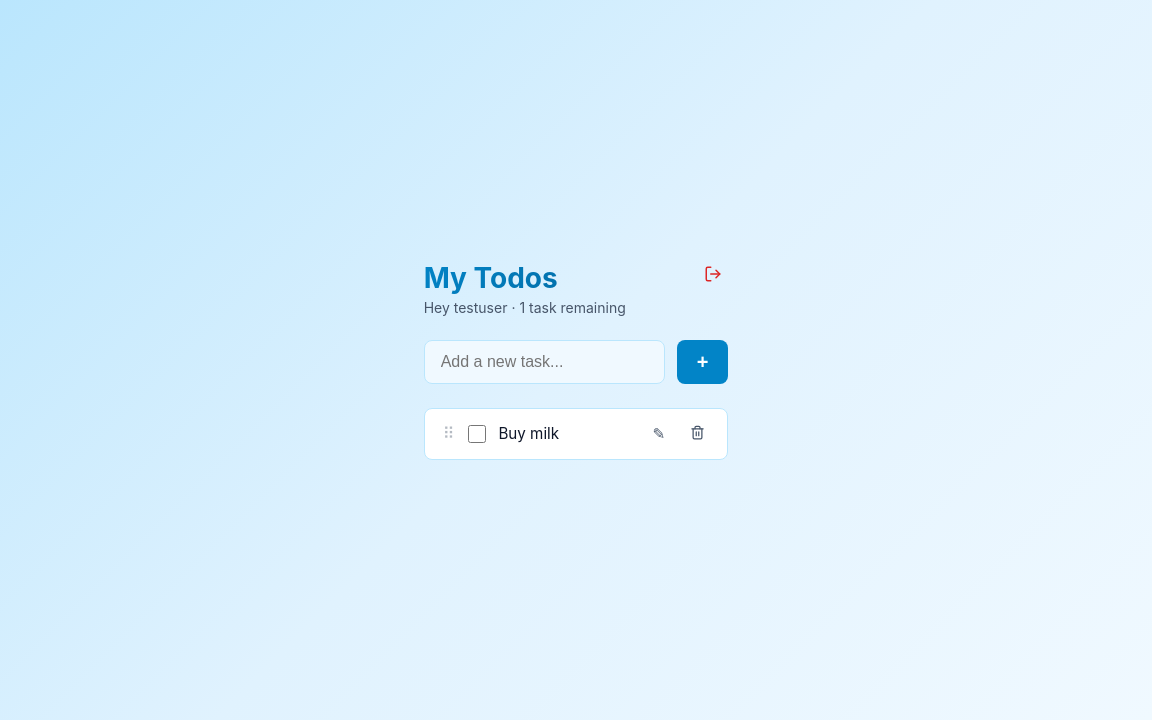
Test case: Home page › clicking Cancel in edit mode exits edit mode
The image size is (1152, 720).
Click the button titled "Edit".
click(659, 434)  # box [646,420,672,446]
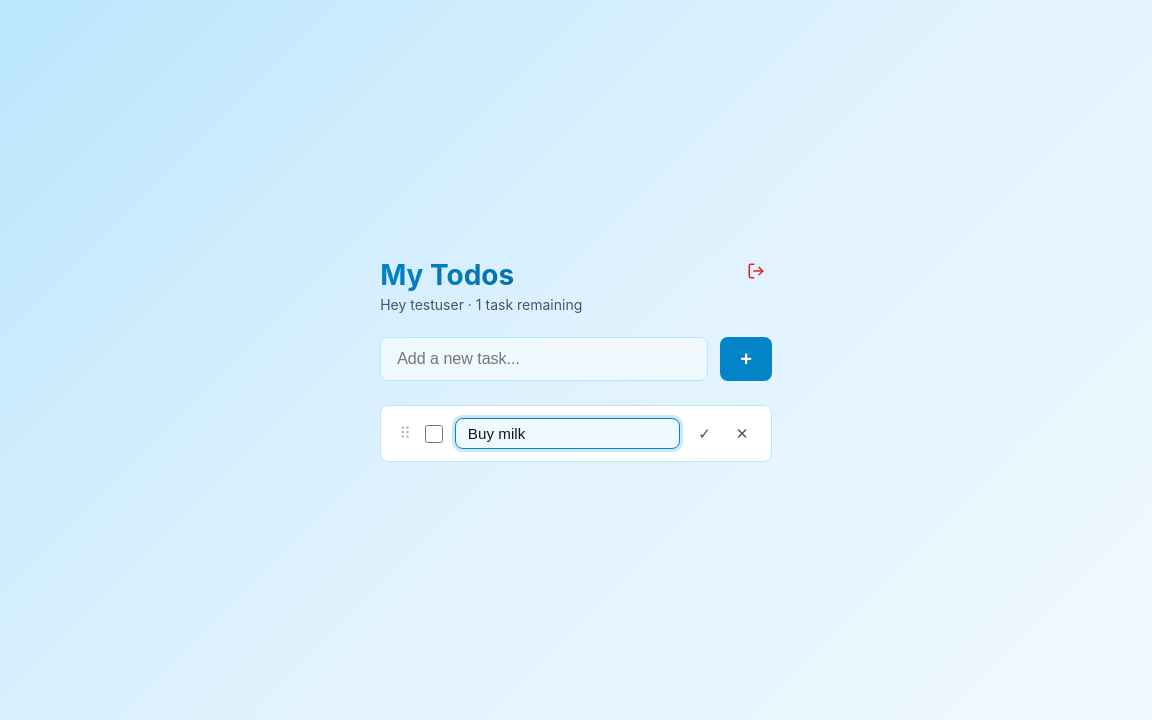
Click the button titled "Cancel".
click(742, 434)  # box [729,420,755,446]
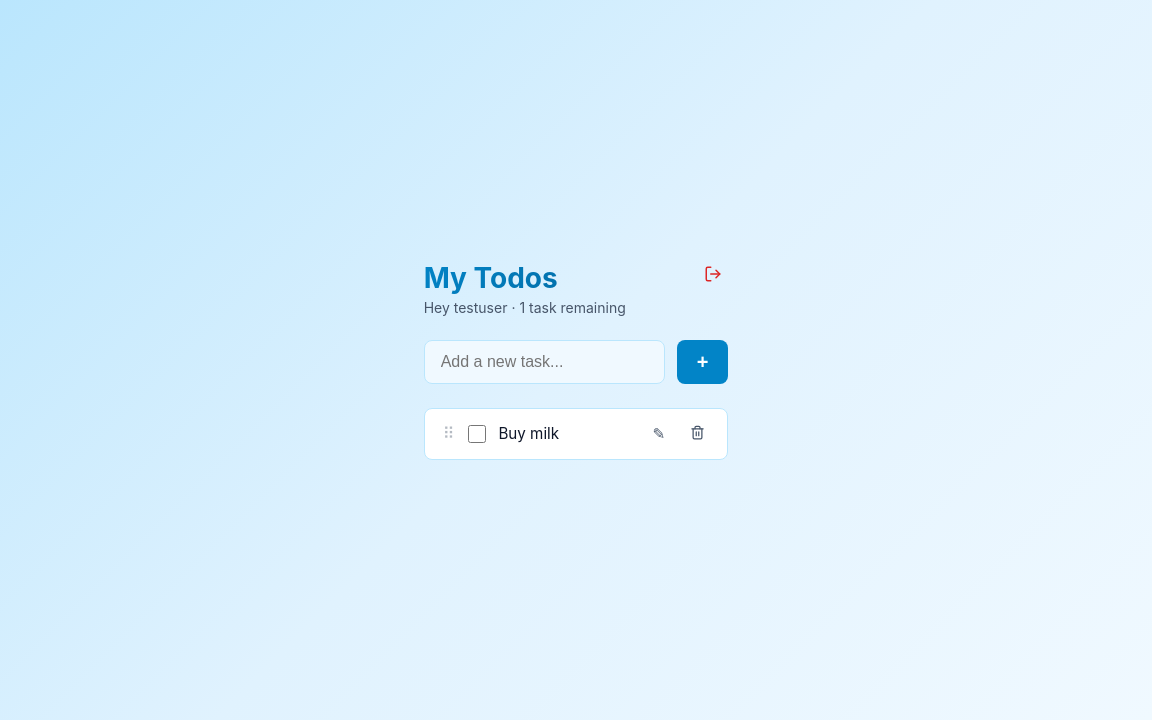
Check: the text "Buy milk" is shown, box [498,424,559,443]
